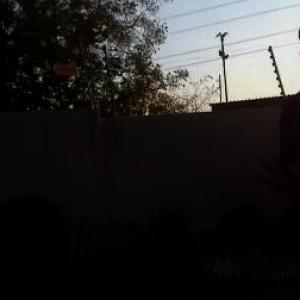follow: (268, 12, 300, 299)
